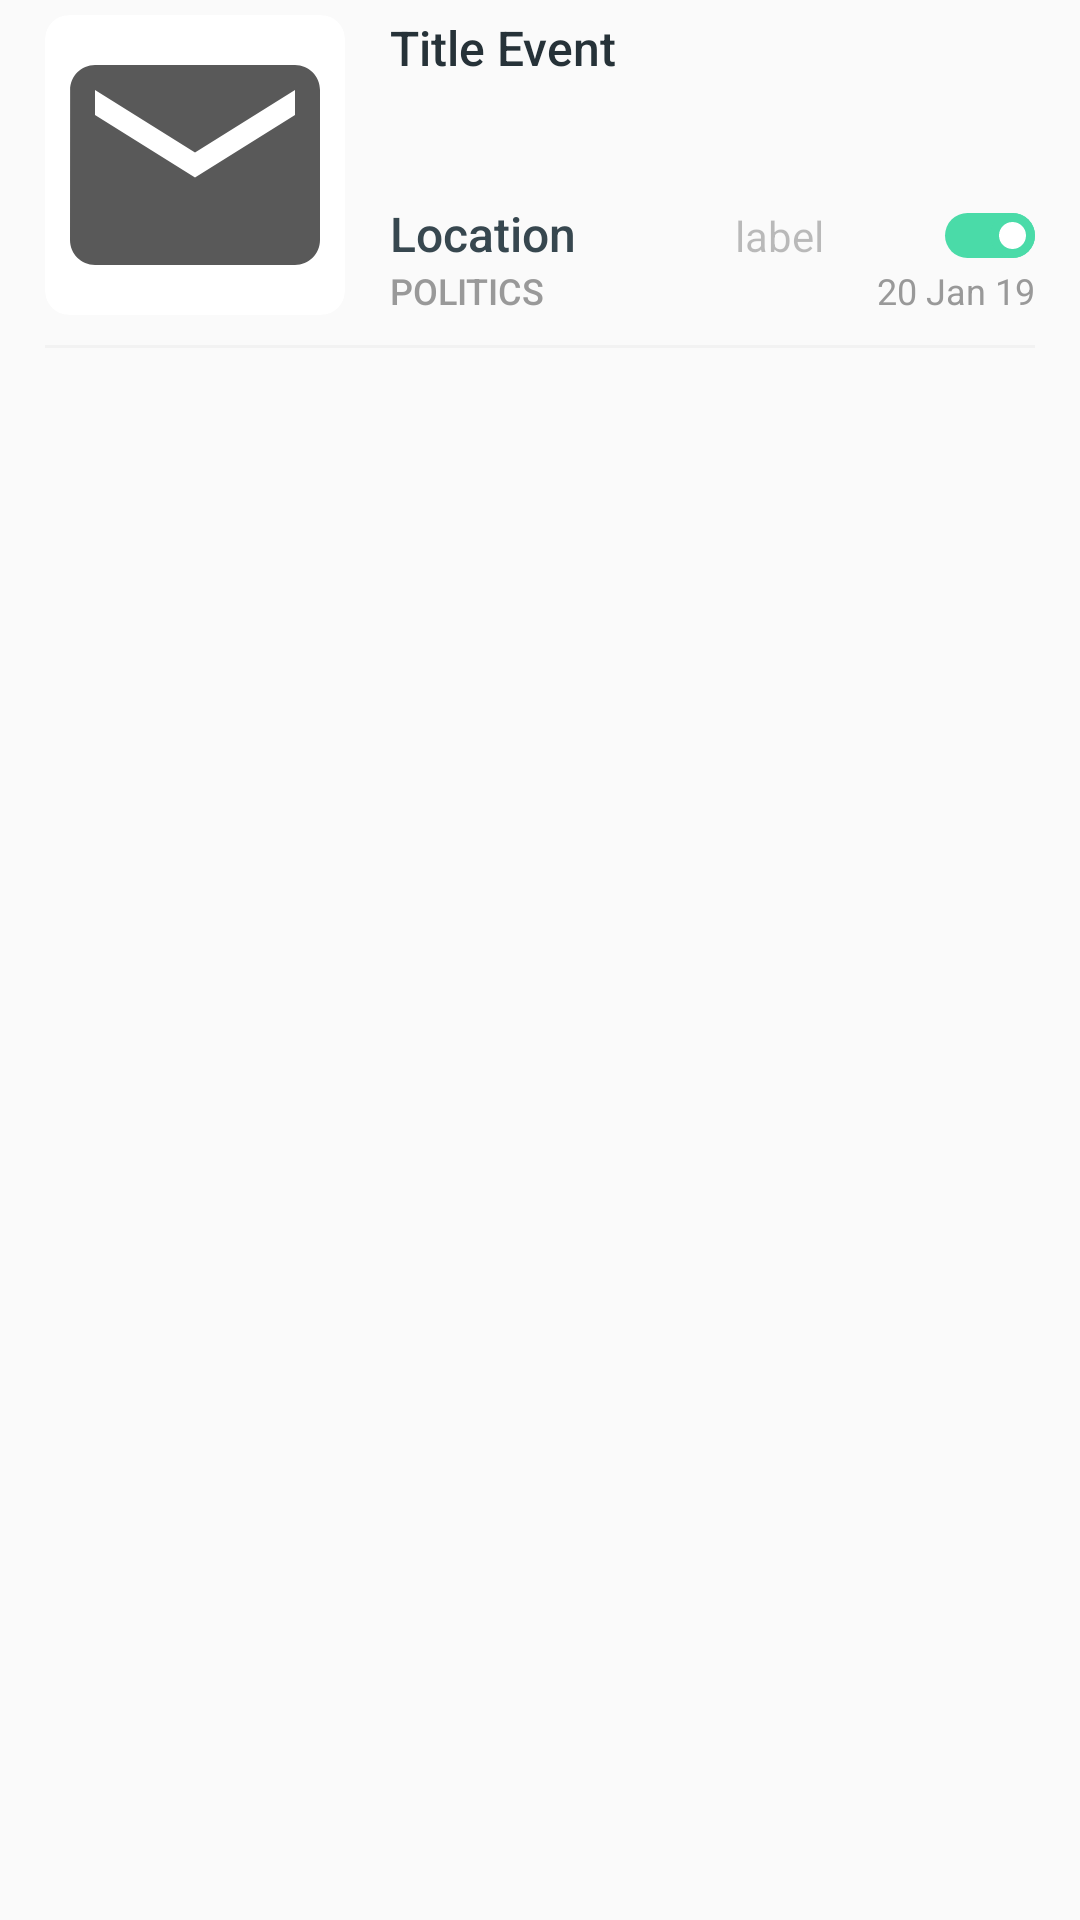

Locate icon controls on the screen. Image size 1080px x 1920px, boxes as (x1, y1, x2, y2).
email: (70, 65, 320, 265)
